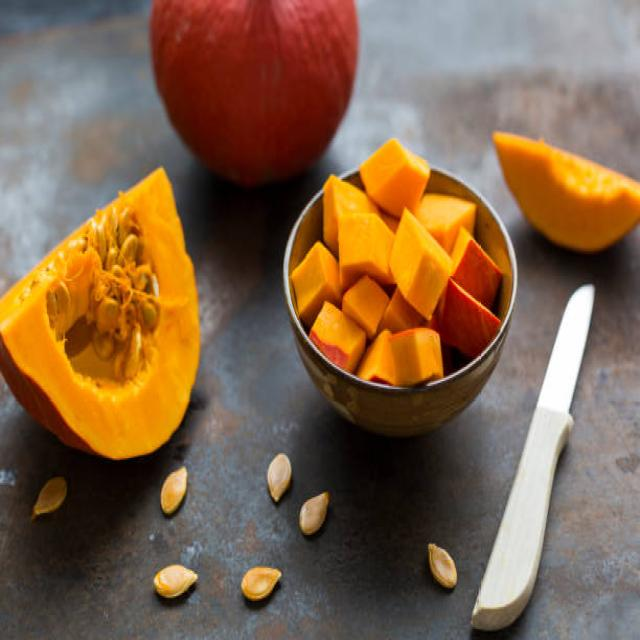pumpkin: (0, 168, 201, 463), (284, 142, 495, 393)
